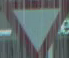Give way: (3, 1, 65, 52)
